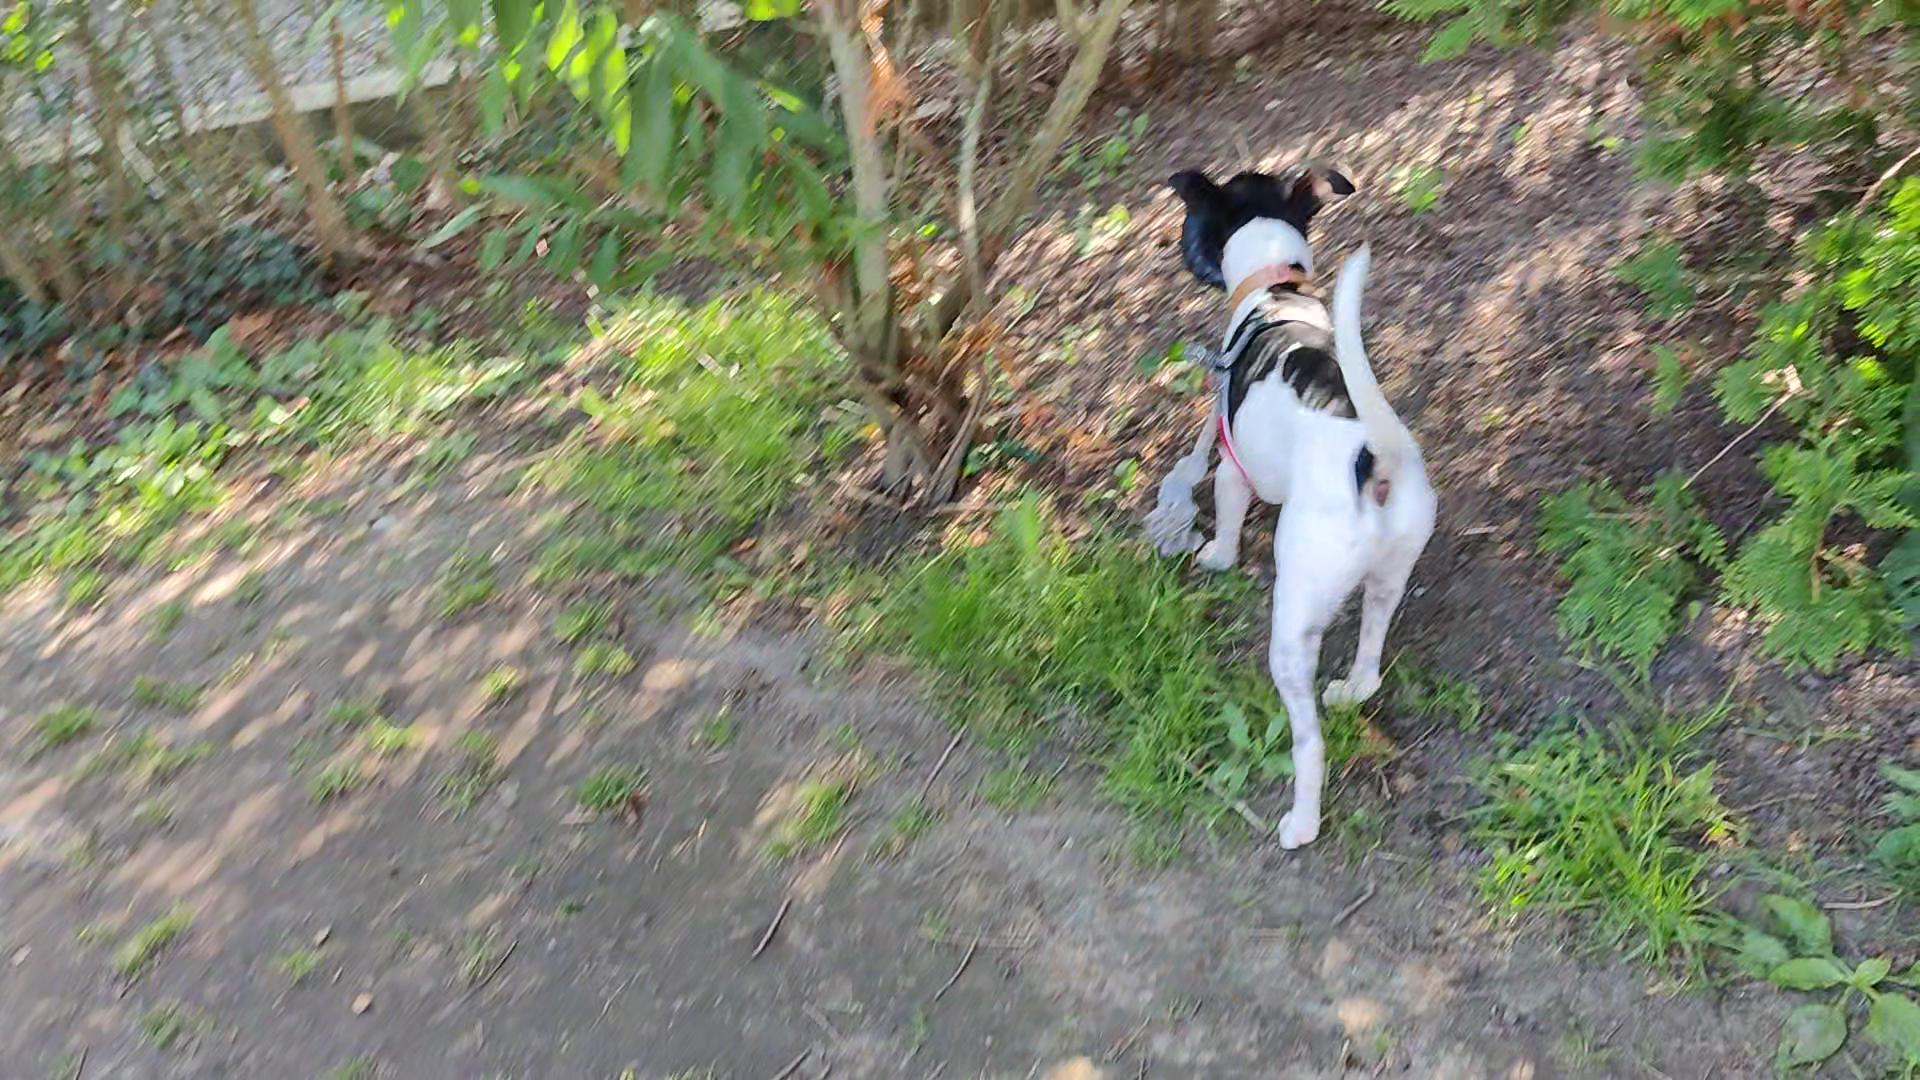Dog: (1129, 128, 1457, 880)
